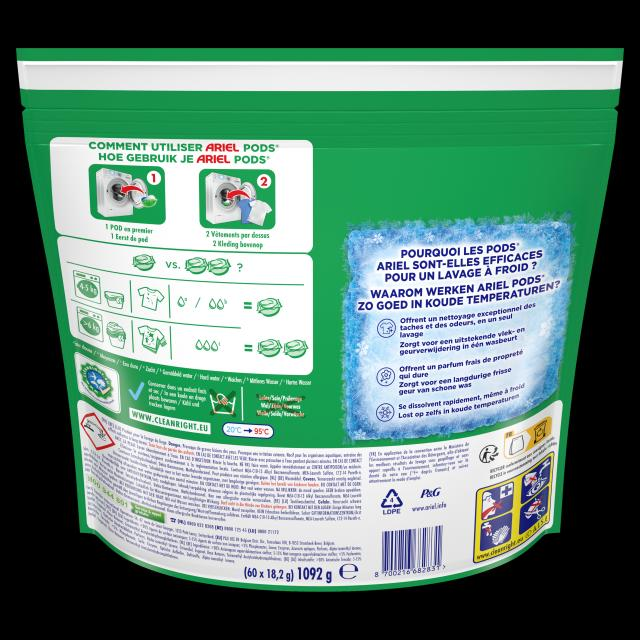GHS_Symbol_CORROSION: (81, 412, 115, 451)
